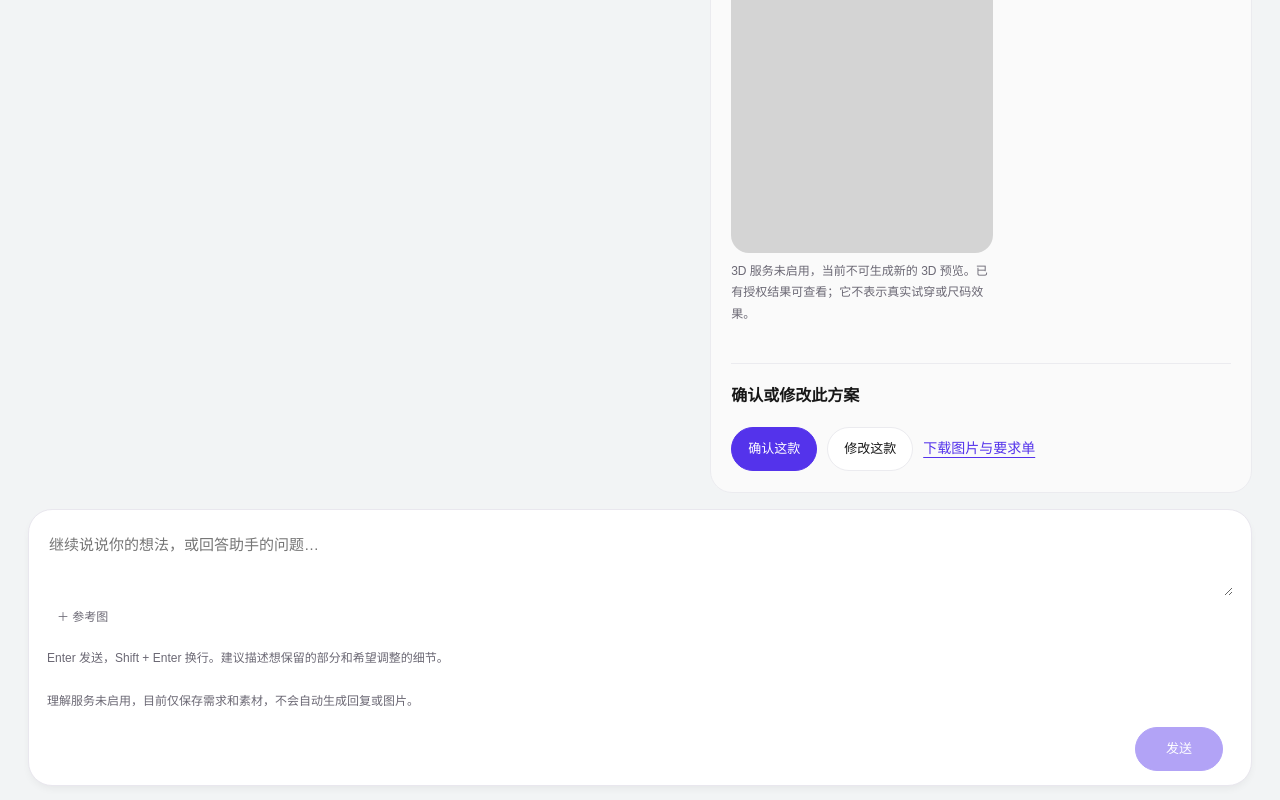
Test: 修改弹窗在409后保稿，基础要求变化不能自动挪到新版本
(page scrolled)
Click the button "修改这款": click(870, 449) [827,427,913,471]
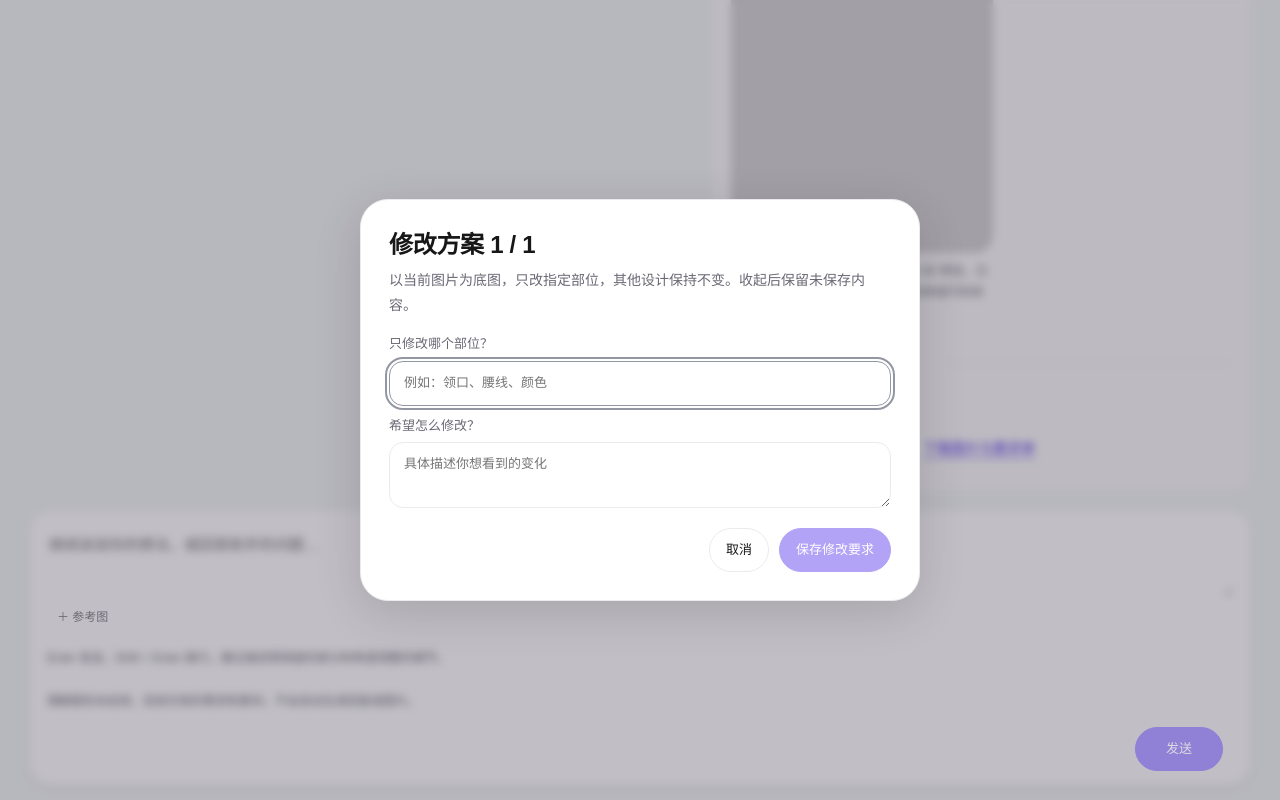
In the field labelled "只修改哪个部位？": (640, 383) [389,361,891,406], type "领口"
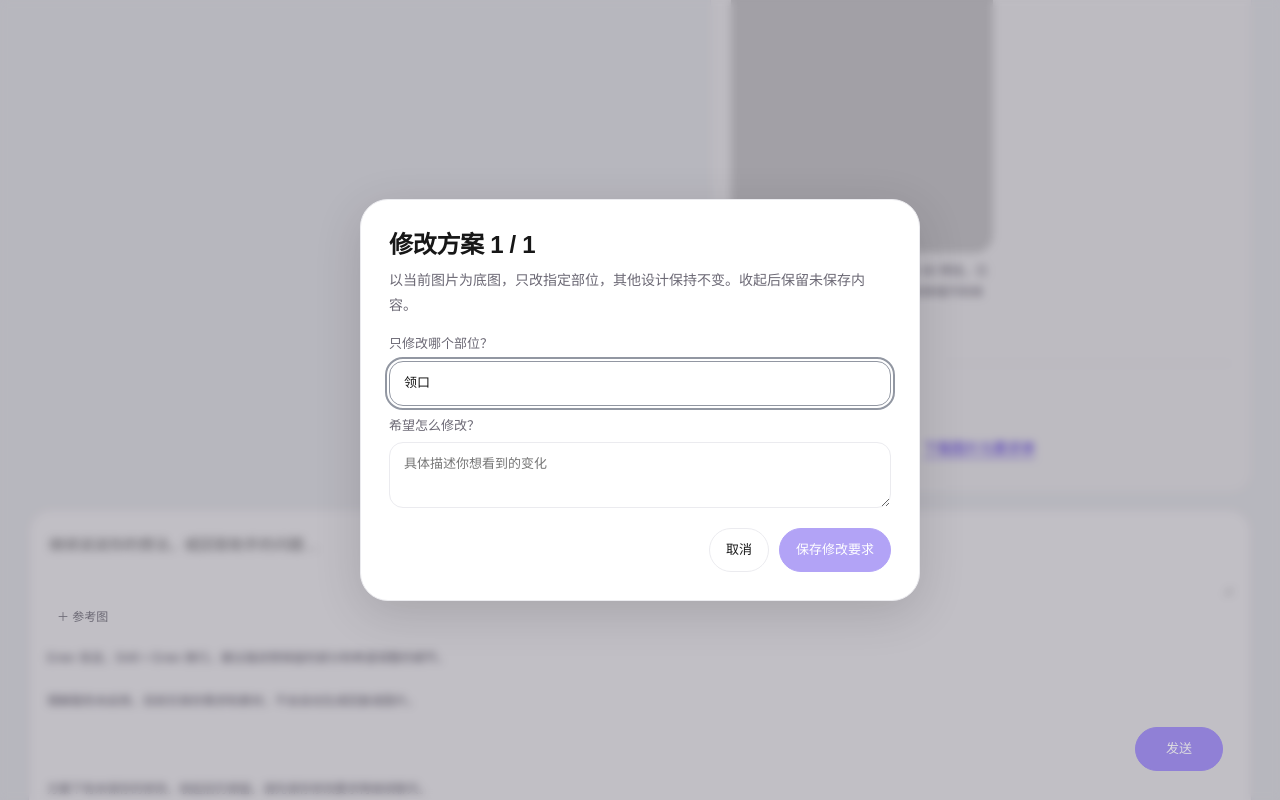
In the text box labelled "希望怎么修改？": (640, 475) [389,442,891,508], type "领口加深一厘米"
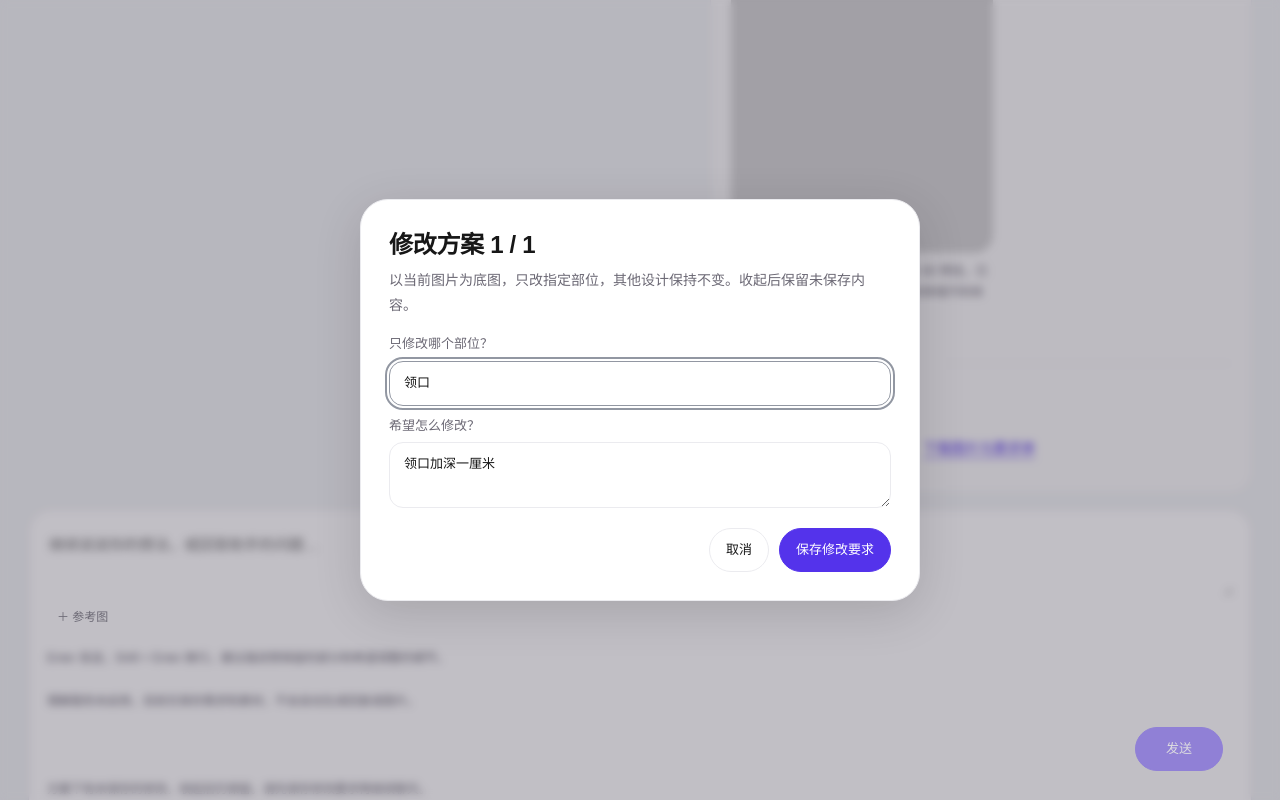
Click the button "保存修改要求": click(835, 550) [779,528,891,572]
(page scrolled)
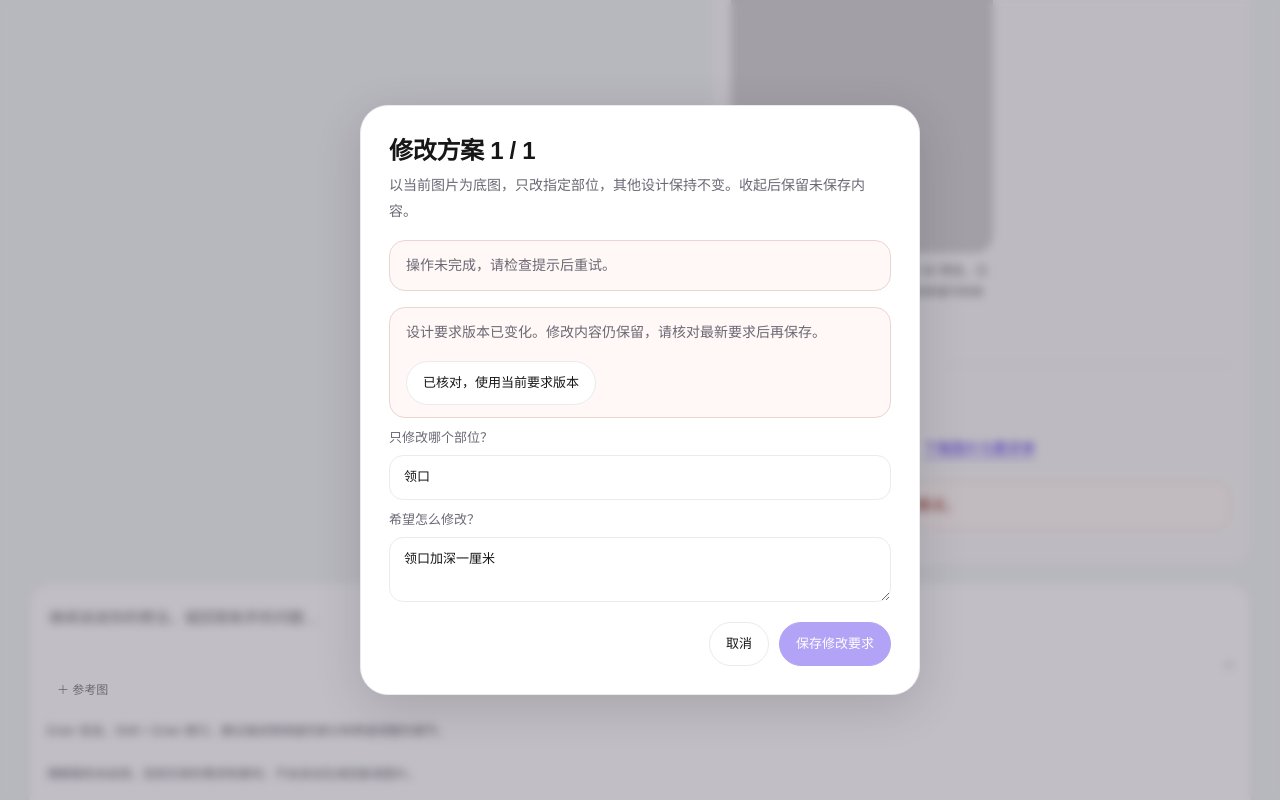
Expected: the text "设计要求版本已变化。修改内容仍保留，请核对最新要求后再保存。" is shown, [406,320,874,345]
Expected: the button "保存修改要求" is disabled, [779,622,891,666]
